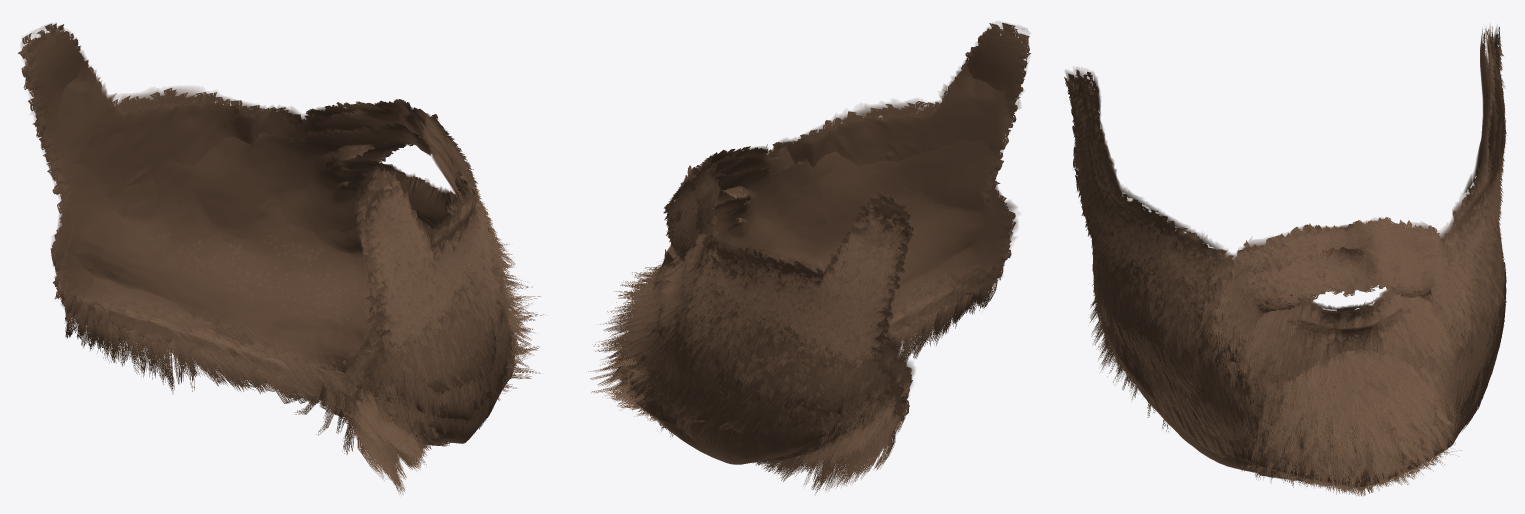
The model's file is beards-male.glb.
3 renders of one model, left to right at view 1: azimuth 30°, elevation 25°; view 2: azimuth 150°, elevation 25°; view 3: azimuth 270°, elevation 25°, orthographic. The views are drawn at different scales.
Parts seen in each view (by area): view 1: Beard_m2_stubble_root, Beard_m2_boxed_root, Beard_m3_full_cards, Beard_m1_stubble_root, Beard_m4_full_cards, Beard_m1_boxed_root, Beard_m3_stubble_root, Beard_m3_boxed_root, Beard_m3_tapered_cards, Beard_m2_tapered_root, Beard_m3_boxed_cards, Beard_m2_full_cards (+17 smaller); view 2: Beard_m4_full_cards, Beard_m3_full_cards, Beard_m1_boxed_root, Beard_m1_stubble_root, Beard_m4_tapered_cards, Beard_m2_boxed_root, Beard_m2_stubble_root, Beard_m2_full_cards, Beard_m3_tapered_cards, Beard_m2_tapered_root, Beard_m3_boxed_cards, Beard_m2_tapered_cards (+18 smaller); view 3: Beard_m4_tapered_cards, Beard_m4_full_cards, Beard_m3_full_cards, Beard_m2_tapered_cards, Beard_m2_full_cards, Beard_m3_tapered_cards, Beard_m4_boxed_cards, Beard_m1_tapered_cards, Beard_m4_goatee_cards, Beard_m2_boxed_cards, Beard_m4_tapered_root, Beard_m3_boxed_cards (+9 smaller).
Boxes of the visible parts, bbox=[...] form: Beard_m2_stubble_root: bbox=[58, 80, 465, 344]; Beard_m2_boxed_root: bbox=[30, 49, 473, 378]; Beard_m3_full_cards: bbox=[18, 31, 520, 471]; Beard_m1_stubble_root: bbox=[40, 39, 433, 296]; Beard_m4_full_cards: bbox=[25, 30, 522, 494]; Beard_m1_boxed_root: bbox=[35, 35, 452, 343]; Beard_m3_stubble_root: bbox=[93, 101, 463, 363]; Beard_m3_boxed_root: bbox=[25, 40, 473, 372]; Beard_m3_tapered_cards: bbox=[21, 31, 535, 416]; Beard_m2_tapered_root: bbox=[30, 59, 473, 396]; Beard_m3_boxed_cards: bbox=[21, 23, 478, 417]; Beard_m2_full_cards: bbox=[26, 24, 514, 470]; Beard_m4_full_cards: bbox=[623, 37, 1029, 494]; Beard_m3_full_cards: bbox=[703, 23, 1030, 466]; Beard_m1_boxed_root: bbox=[715, 32, 1019, 313]; Beard_m1_stubble_root: bbox=[715, 40, 1012, 267]; Beard_m4_tapered_cards: bbox=[588, 31, 1026, 474]; Beard_m2_boxed_root: bbox=[704, 60, 1014, 367]; Beard_m2_stubble_root: bbox=[705, 79, 1009, 286]; Beard_m2_full_cards: bbox=[629, 31, 1021, 468]; Beard_m3_tapered_cards: bbox=[603, 24, 1023, 415]; Beard_m2_tapered_root: bbox=[705, 52, 1012, 373]; Beard_m3_boxed_cards: bbox=[708, 28, 1029, 399]; Beard_m2_tapered_cards: bbox=[594, 25, 1024, 419]; Beard_m4_tapered_cards: bbox=[1076, 38, 1502, 493]; Beard_m4_full_cards: bbox=[1074, 26, 1505, 485]; Beard_m3_full_cards: bbox=[1064, 34, 1507, 433]; Beard_m2_tapered_cards: bbox=[1076, 34, 1494, 456]; Beard_m2_full_cards: bbox=[1081, 29, 1495, 426]; Beard_m3_tapered_cards: bbox=[1067, 27, 1505, 465]; Beard_m4_boxed_cards: bbox=[1074, 32, 1502, 344]; Beard_m1_tapered_cards: bbox=[1093, 32, 1498, 496]; Beard_m4_goatee_cards: bbox=[1241, 242, 1443, 383]; Beard_m2_boxed_cards: bbox=[1076, 37, 1495, 322]; Beard_m4_tapered_root: bbox=[1092, 32, 1500, 487]; Beard_m3_boxed_cards: bbox=[1064, 31, 1505, 326].
Bounding box in the file's own units: 0.1676 × 0.1509 × 0.1665.
Materials: 2 (1 with a texture image).
